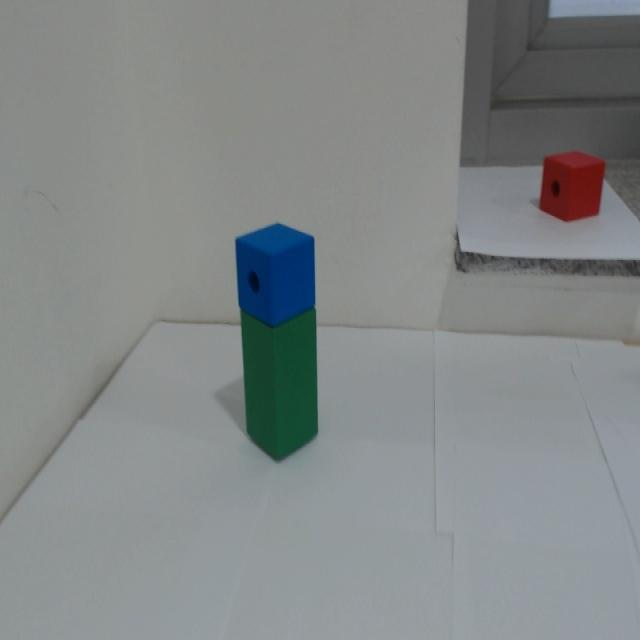cube: (232, 221, 340, 321)
